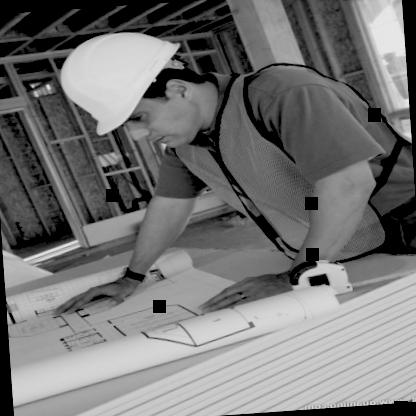helmet: (44, 11, 228, 166)
